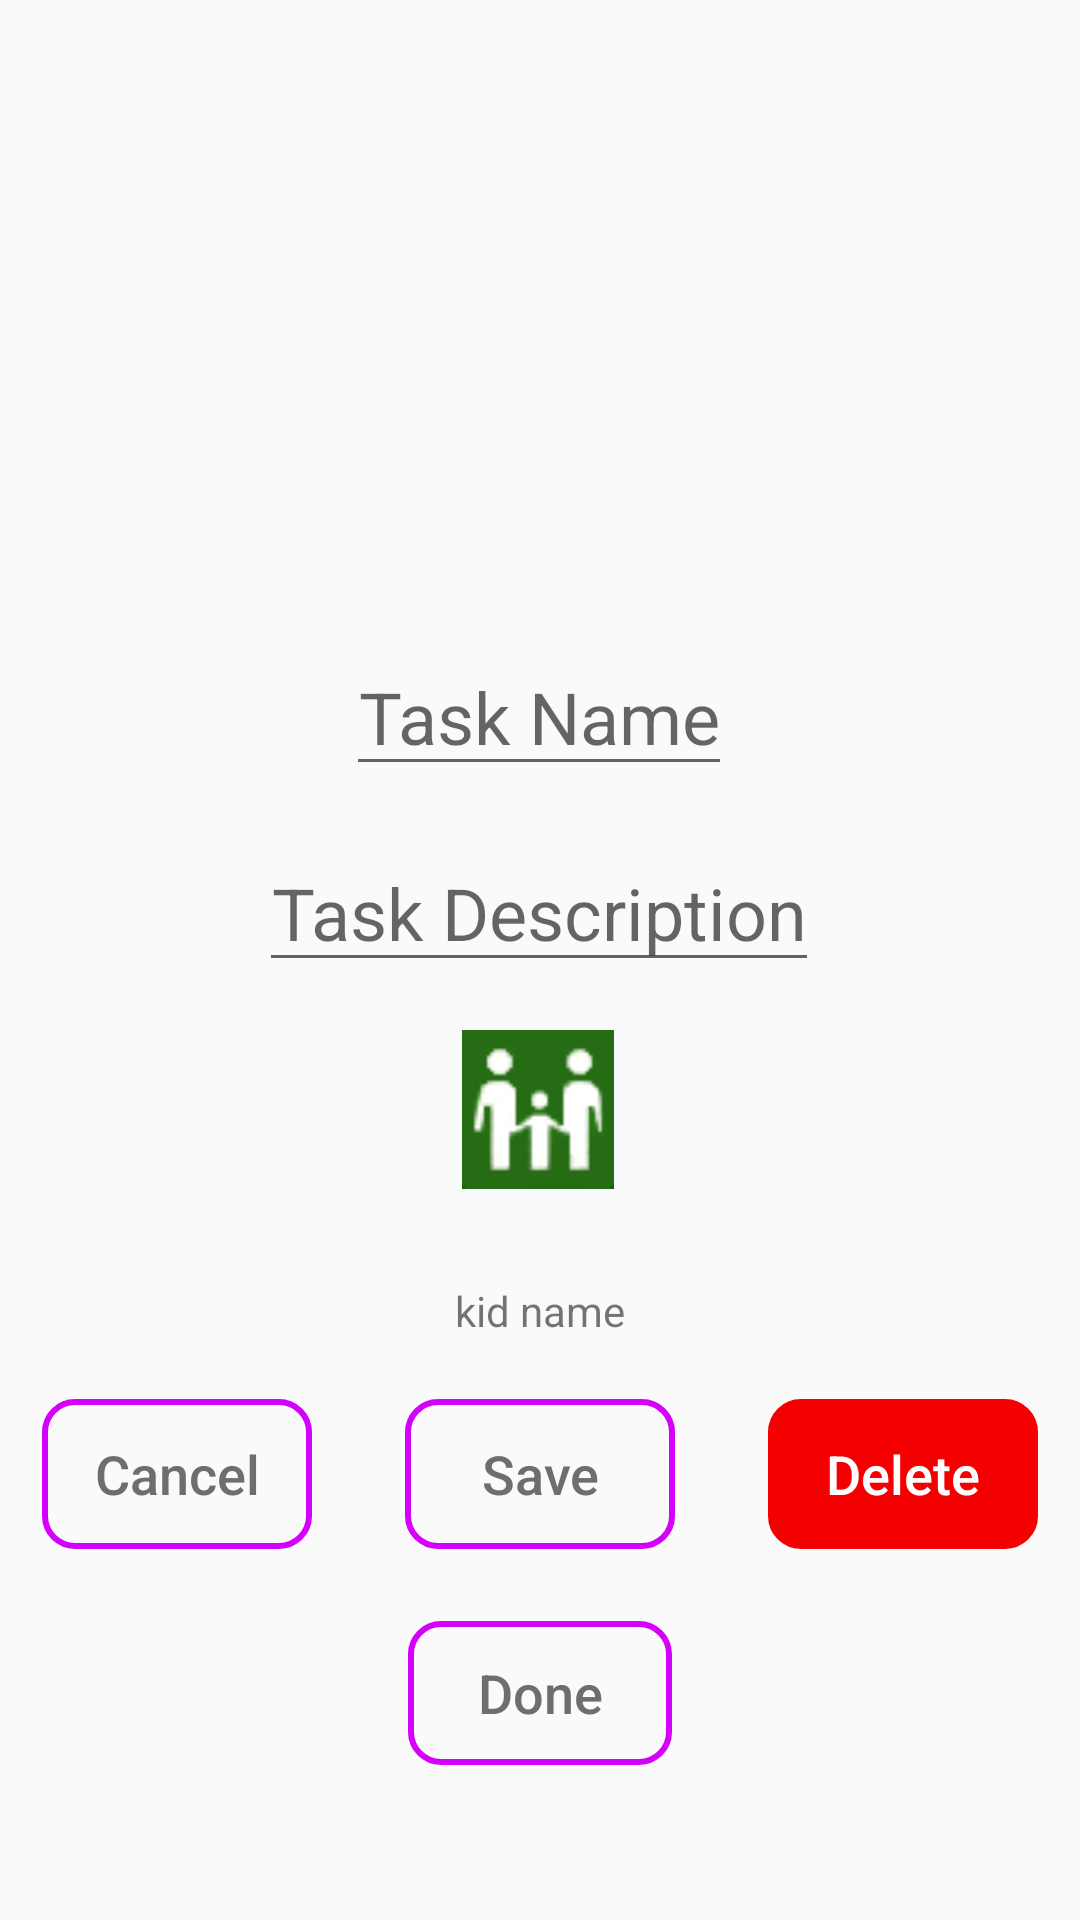

Locate icon controls on the screen. Image size 1080x1920, boxes as {"x1": x1, "y1": y1, "x2": x2, "y2": y2}.
family: {"x1": 462, "y1": 1030, "x2": 614, "y2": 1189}
